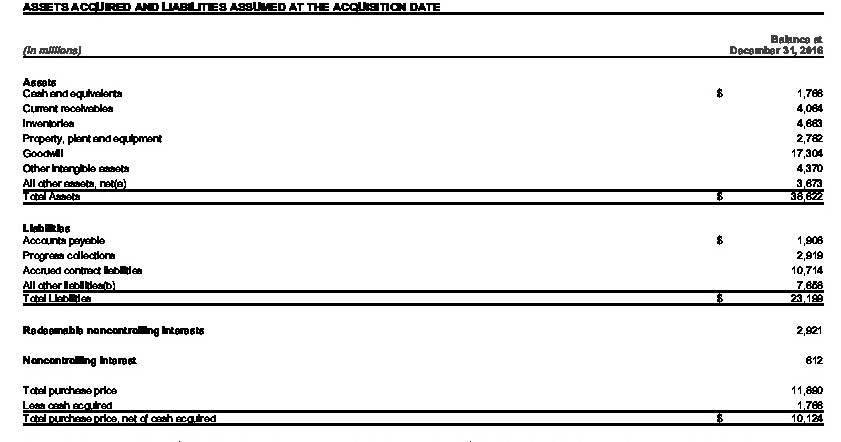table: (0, 0, 841, 442)
